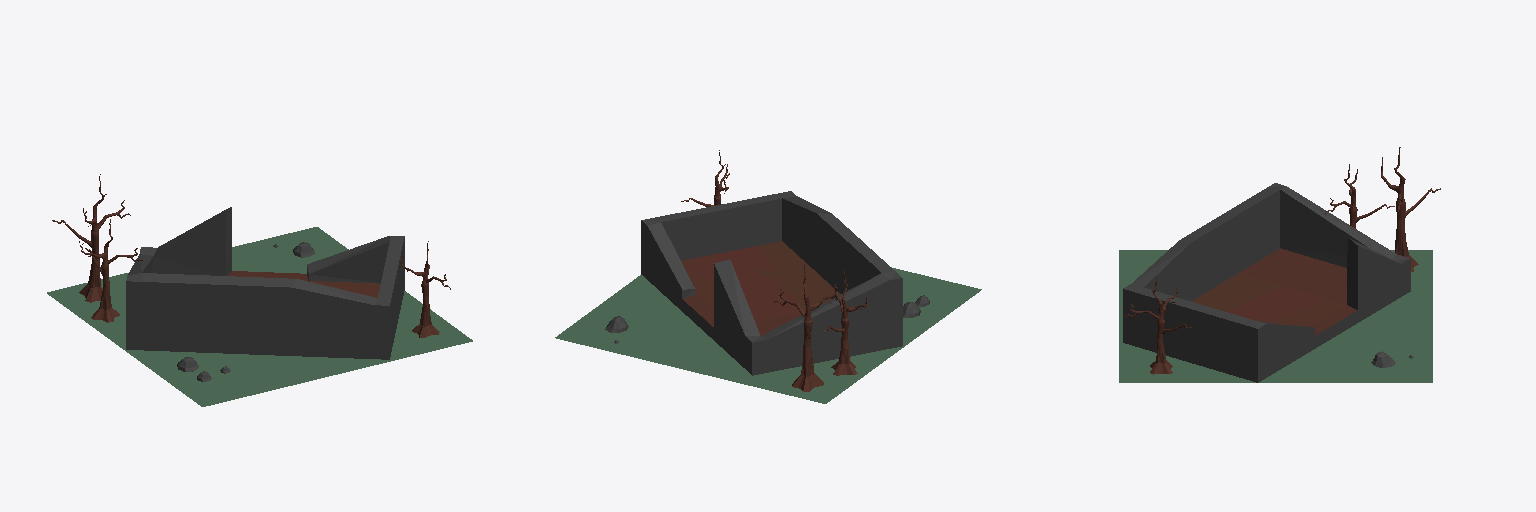
The picture shows the model from 3 angles: view 1: azimuth 30°, elevation 25°; view 2: azimuth 150°, elevation 25°; view 3: azimuth 270°, elevation 25°; orthographic projection.
Visible parts, largest first — view 1: room_piece_4_pasted__polySurface26; view 2: room_piece_4_pasted__polySurface26; view 3: room_piece_4_pasted__polySurface26.
Part boxes in pixels (x1,y1,x2,y2): room_piece_4_pasted__polySurface26: (47,174,472,406); room_piece_4_pasted__polySurface26: (555,150,981,403); room_piece_4_pasted__polySurface26: (1119,147,1440,382).
Size of the model in its own units: 50.73 by 21.73 by 51.36.
Materials: 1 (1 with a texture image).